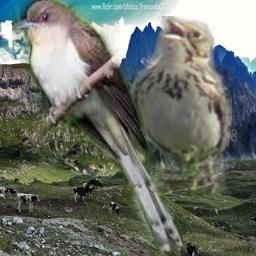Cuckoo: (12, 0, 183, 256)
Sparrow: (130, 16, 232, 194)
